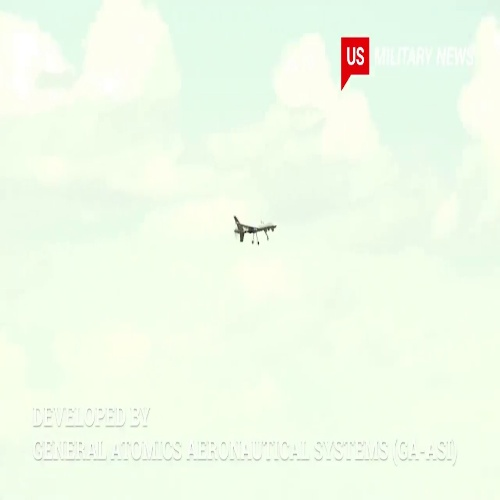uav: (228, 210, 277, 246)
